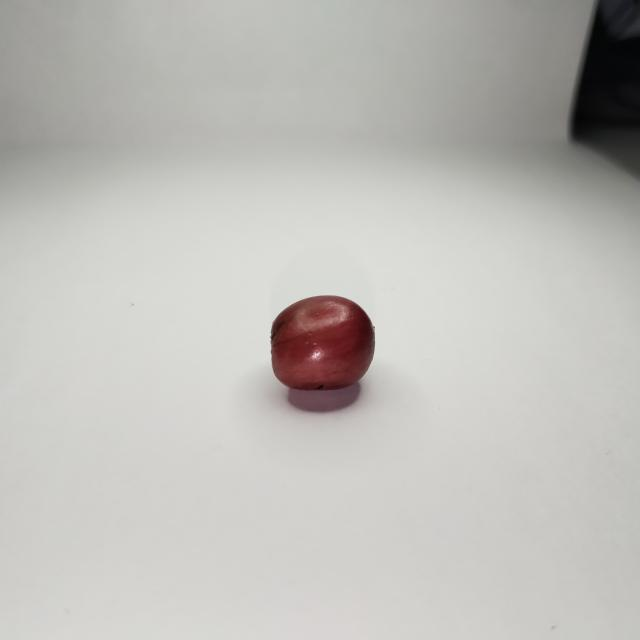Sano: (271, 296, 374, 392)
